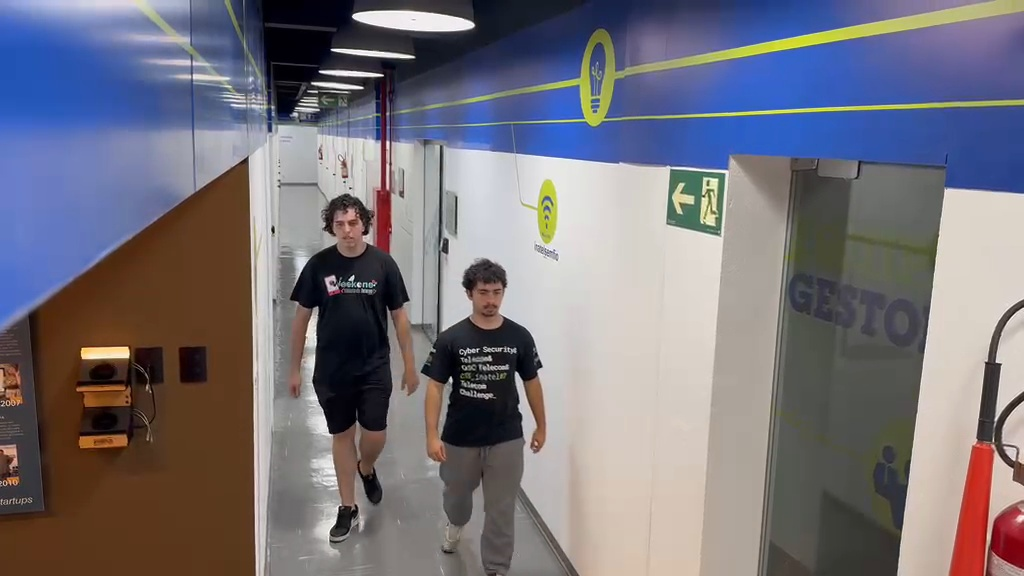person: (287, 191, 417, 541), (420, 259, 548, 573)
